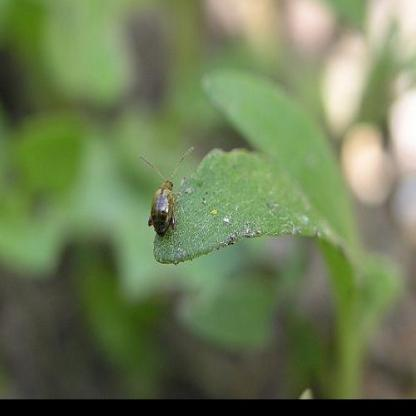beetle: (139, 150, 192, 238)
